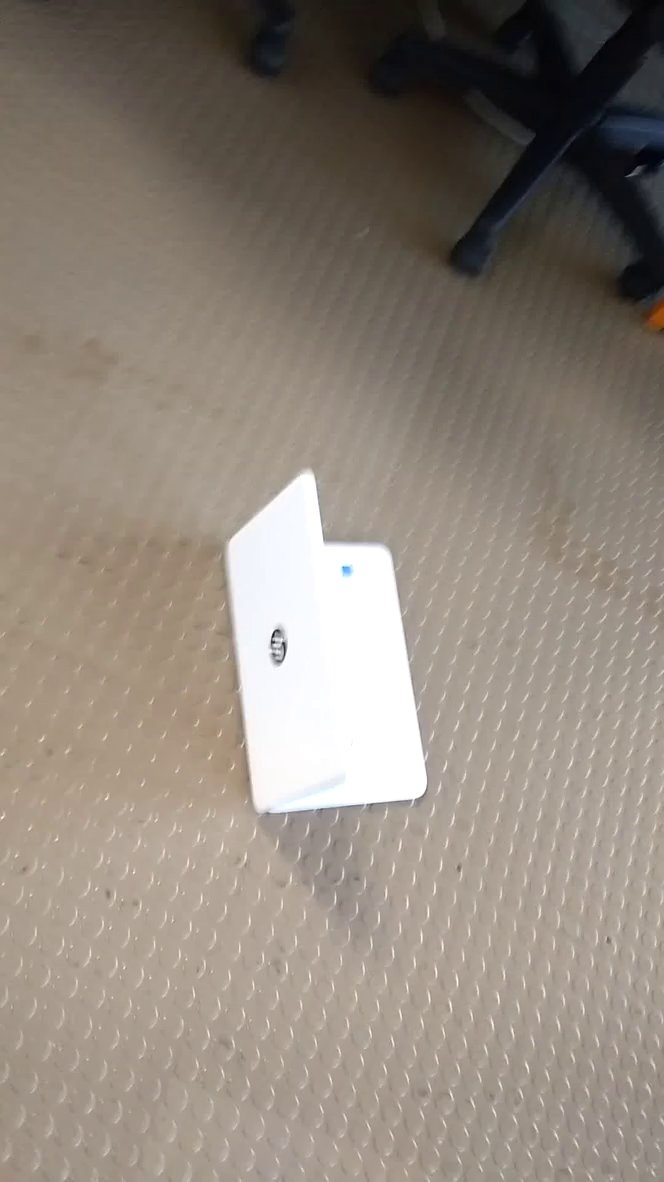laptop: (220, 466, 436, 826)
